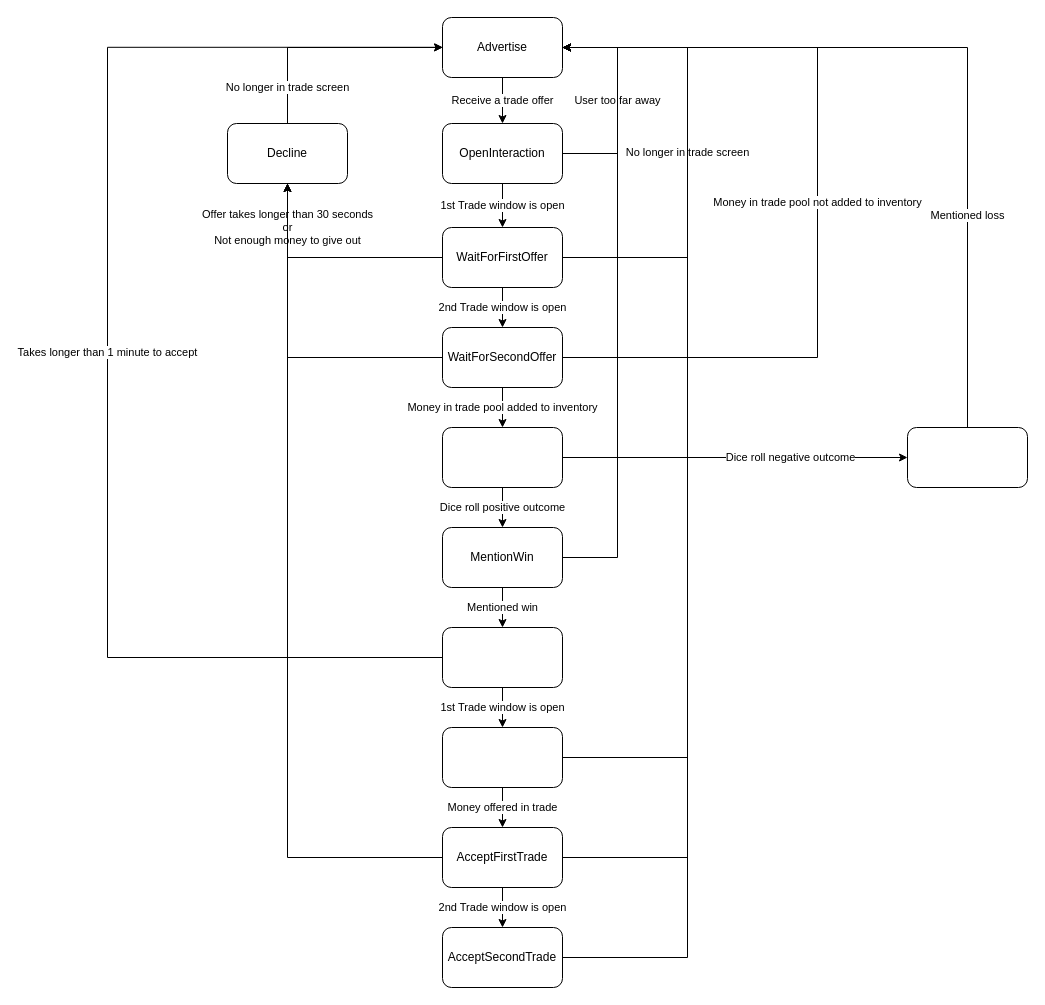
Some shapes in this 1045 by 1005 pixel diagram are drawn without their labels. Each missing label, with the box of its shape:
MentionLoss: (906, 426, 1028, 488)
OfferFirstTrade: (442, 726, 562, 788)
Roll Dice: (442, 426, 562, 488)
TradeUser: (442, 626, 562, 688)
